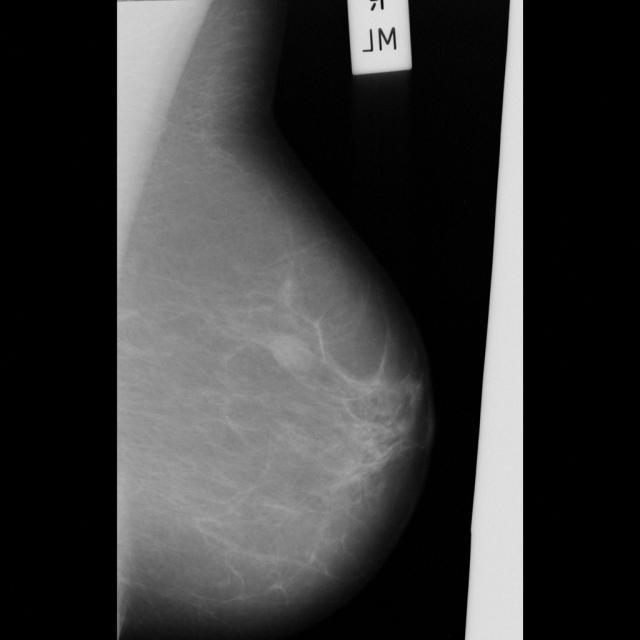CIRC: (269, 329, 319, 379)
